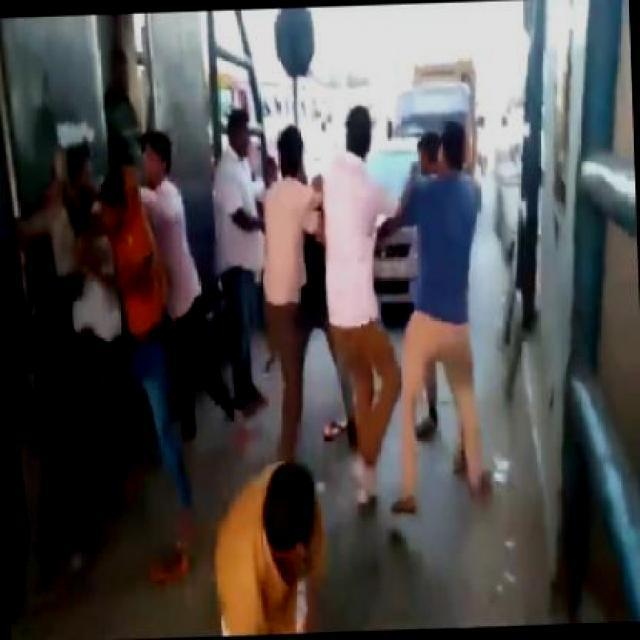fight: (64, 137, 208, 506)
